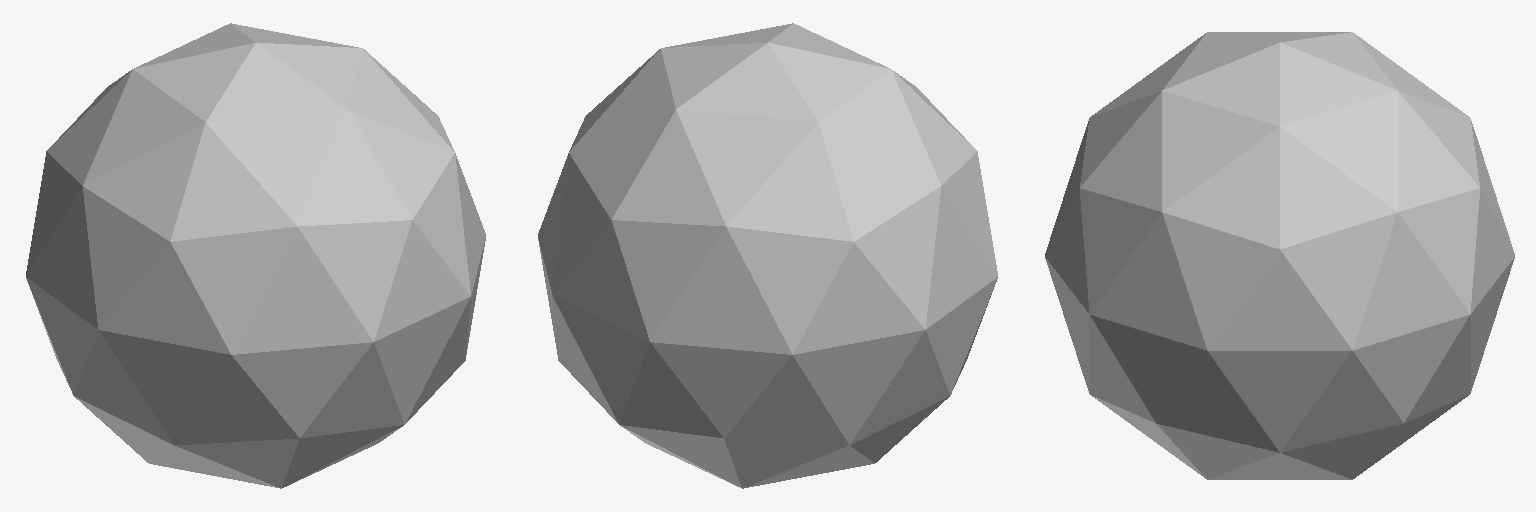
File: SoulOrb.obj
3 views of the same model, side by side, from view 1: azimuth 30°, elevation 25°; view 2: azimuth 150°, elevation 25°; view 3: azimuth 270°, elevation 25° (orthographic).
Parts seen in each view (by area): view 1: SoulOrb_Icosphere.001; view 2: SoulOrb_Icosphere.001; view 3: SoulOrb_Icosphere.001.
Part boxes in pixels (left/top/right/bottom): SoulOrb_Icosphere.001: left=26, top=23, right=485, bottom=488; SoulOrb_Icosphere.001: left=538, top=23, right=997, bottom=488; SoulOrb_Icosphere.001: left=1045, top=32, right=1514, bottom=479.
Size of the model in its own units: 0.2459 by 0.2586 by 0.2586.